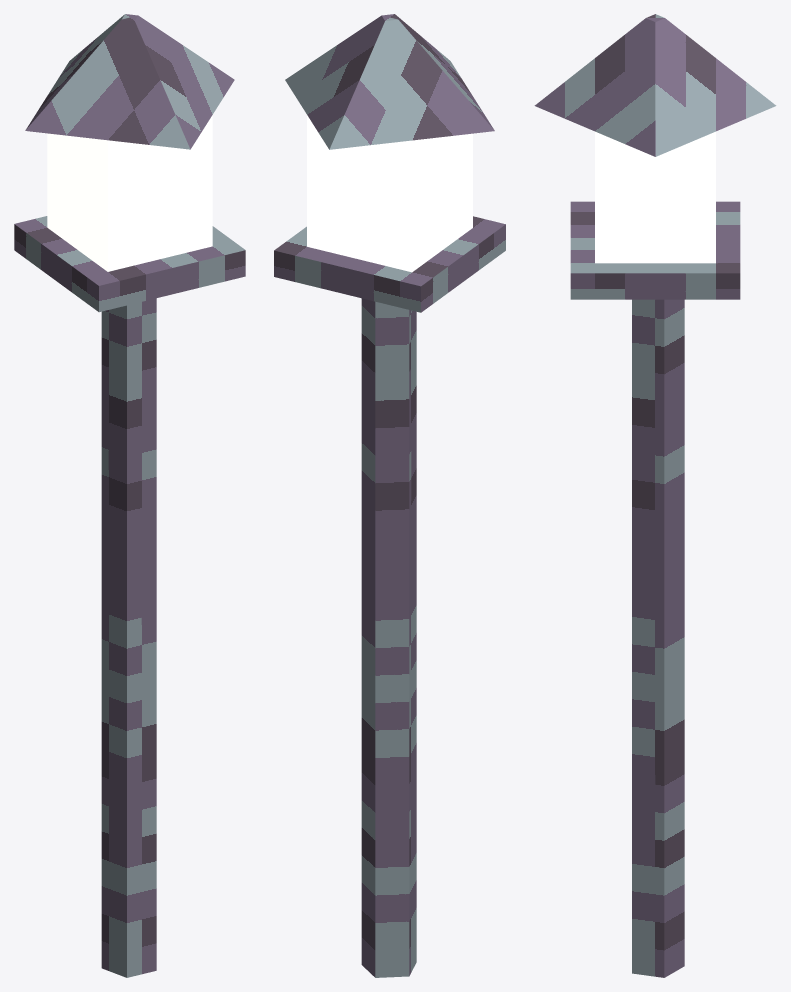
Rendered from r08_lanterna_sagrada.glb.
The picture shows the model from 3 angles, left to right: view 1: azimuth 30°, elevation 25°; view 2: azimuth 150°, elevation 25°; view 3: azimuth 270°, elevation 25°; orthographic projection.
Visible parts, largest first — view 1: r08_lanterna_sagrada; view 2: r08_lanterna_sagrada; view 3: r08_lanterna_sagrada.
Part boxes in pixels (left/top/right/bottom): r08_lanterna_sagrada: left=14, top=14, right=245, bottom=977; r08_lanterna_sagrada: left=274, top=14, right=505, bottom=977; r08_lanterna_sagrada: left=534, top=14, right=776, bottom=977.
Bounding box in the file's own units: 0.5 × 2.16 × 0.5.
2 materials, 1 textured.
